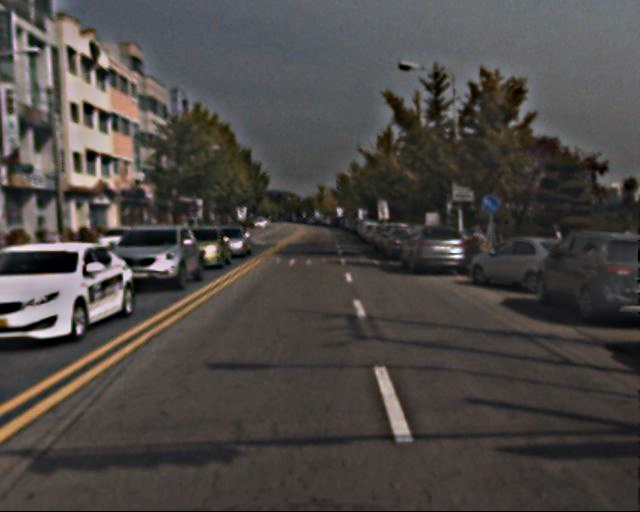person: (546, 222, 567, 272), (491, 218, 511, 266), (471, 219, 489, 264)
